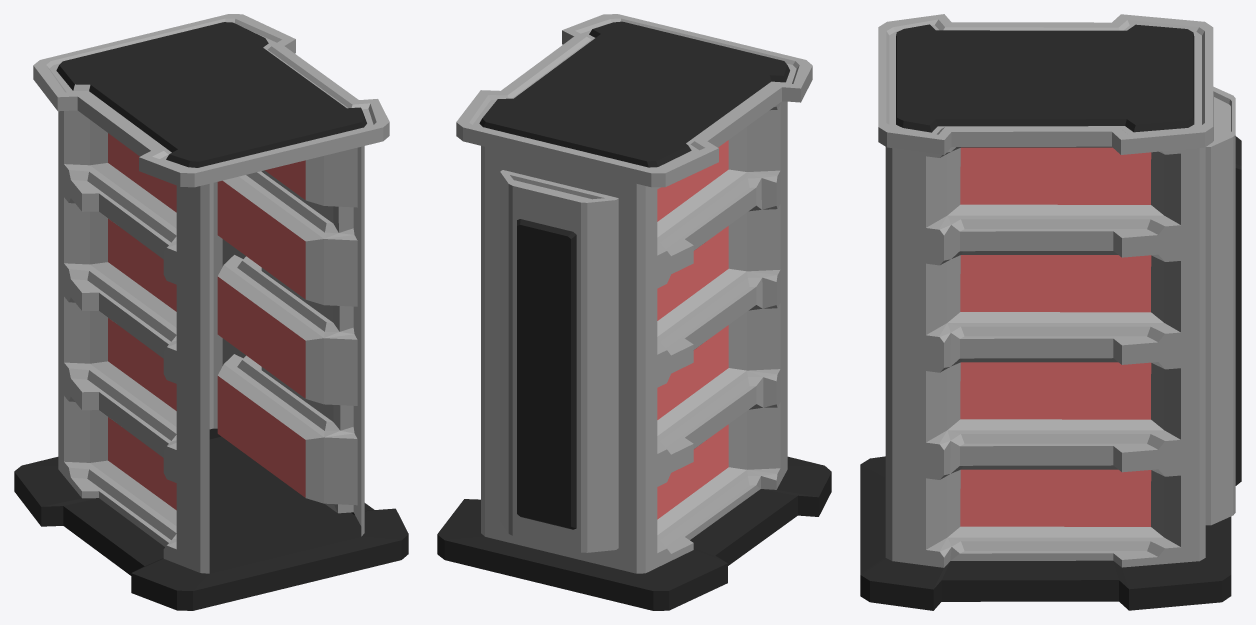
File: MiscMachine_01.fbx
3 renders of one model, left to right at view 1: azimuth 30°, elevation 25°; view 2: azimuth 150°, elevation 25°; view 3: azimuth 270°, elevation 25°, orthographic. The views are drawn at different scales.
Parts seen in each view (by area): view 1: MiscMachine_01; view 2: MiscMachine_01; view 3: MiscMachine_01.
Boxes of the visible parts, x1,y1,x2,y2 form: MiscMachine_01: [14, 14, 408, 610]; MiscMachine_01: [437, 14, 831, 610]; MiscMachine_01: [860, 14, 1241, 610].
Bounding box in the file's own units: 337 × 524 × 389.
